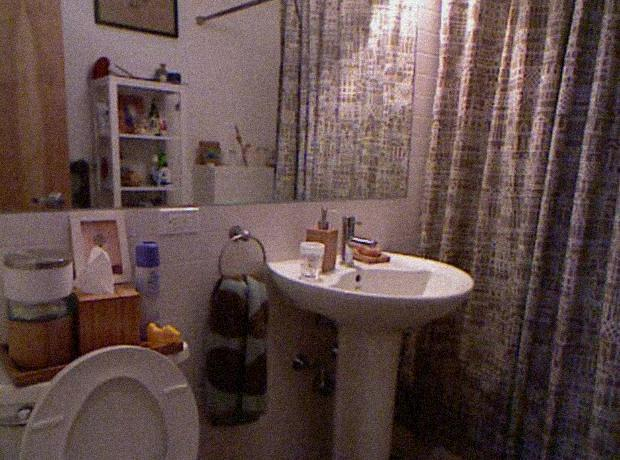Ducha: (430, 3, 618, 455)
Lavamanos: (263, 213, 478, 457)
Sanitario: (2, 327, 204, 459)
